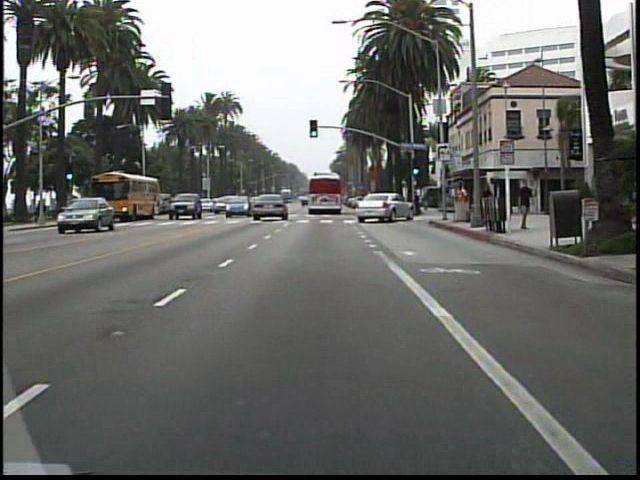person: (513, 176, 535, 234), (480, 180, 496, 225), (453, 180, 469, 222)
